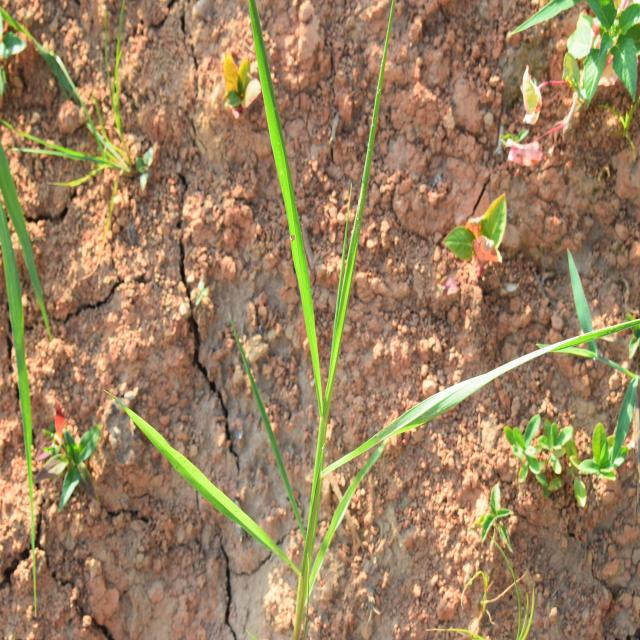green_foxtail: (171, 133, 475, 594)
